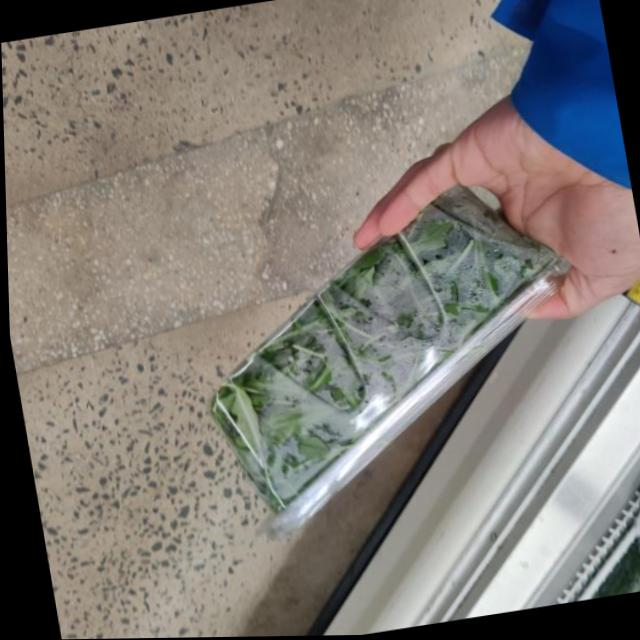Salad: (190, 169, 630, 538)
